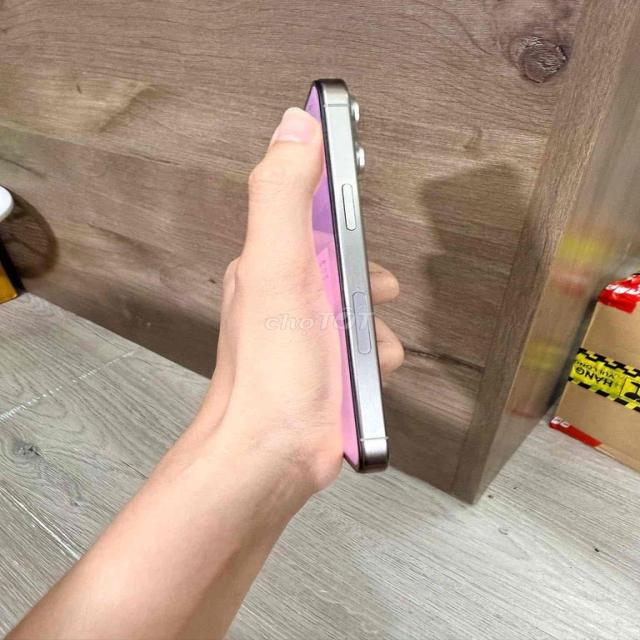gen_15: (292, 73, 413, 477)
